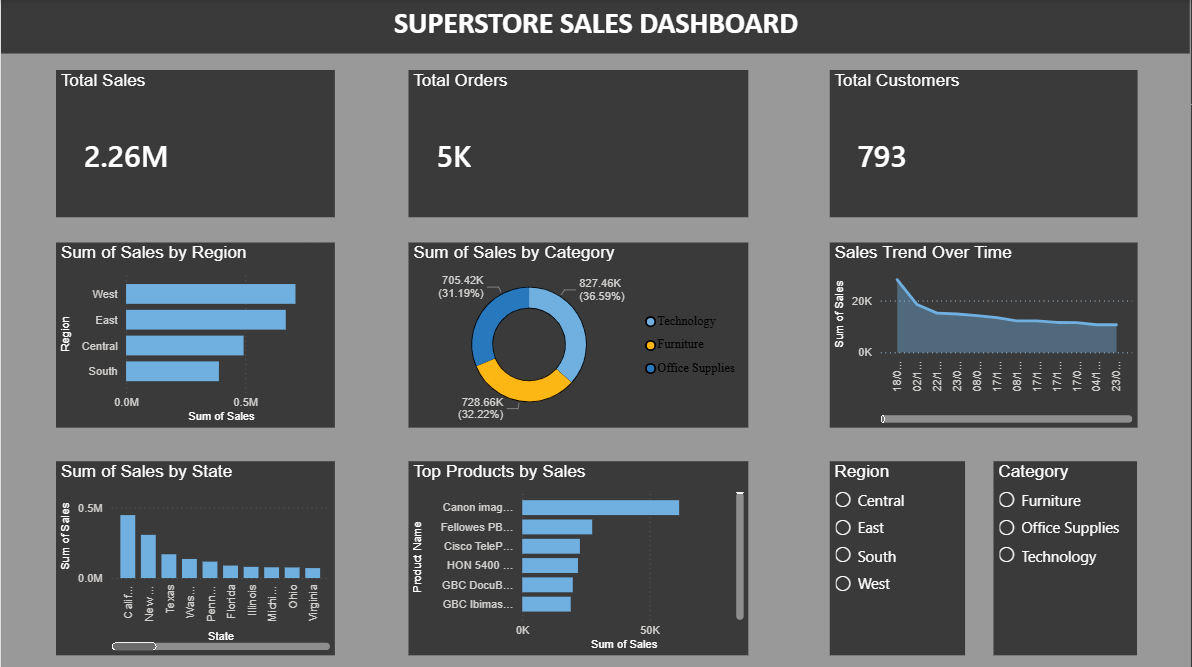

The page's visual inventory and layout, read from the dashboard file:
{"tool":"powerbi","page":{"name":"Page 1","canvas":[1280,720],"ordinal":0},"visuals":[{"type":"cardVisual","title":"Total Sales","fields":{"Data":["Sum(train.Sales)"]},"box":[59.2,75.3,299.9,158.7],"z":0},{"type":"clusteredBarChart","fields":{"Category":["train.Region"],"Y":["Sum(train.Sales)"]},"box":[59.2,260.9,299.9,199],"z":1000},{"type":"donutChart","fields":{"Category":["train.Category"],"Y":["Sum(train.Sales)"]},"box":[438.4,260.9,365.8,199],"z":2000},{"type":"clusteredColumnChart","fields":{"Category":["train.State"],"Y":["Sum(train.Sales)"]},"box":[59.2,496.2,299.9,208.4],"z":3000},{"type":"lineChart","title":"Sales Trend Over Time","fields":{"Category":["train.Order Date"],"Y":["Sum(train.Sales)"]},"box":[891.6,260.9,330.8,199],"z":4000},{"type":"listSlicer","fields":{"Values":["train.Region"]},"box":[891.6,496.2,145.2,208.4],"z":5000},{"type":"listSlicer","fields":{"Values":["train.Category"]},"box":[1067.8,496.2,154.7,208.4],"z":6000},{"type":"cardVisual","title":"Total Orders","fields":{"Data":["train.Total Orders"]},"box":[438.4,75.3,365.8,158.7],"z":7000},{"type":"cardVisual","title":"Total Customers","fields":{"Data":["train.Total Customer"]},"box":[891.6,75.3,330.8,158.7],"z":8000},{"type":"barChart","title":"Top Products by Sales","fields":{"Category":["train.Product Name"],"Y":["Sum(train.Sales)"]},"box":[438.4,496.2,365.8,208.4],"z":9000},{"type":"textbox","box":[0,0,1280.3,57.8],"z":10000}]}

Visuals, with their boxes in screenshot pixels (x1, y1, x2, y2), scaled from the page's 1280x720 canvas onto the 1192x667 screenshot:
"Total Sales" cardVisual: {"left": 55, "top": 70, "right": 334, "bottom": 217}
clusteredBarChart - train.Region x Sum(train.Sales): {"left": 55, "top": 242, "right": 334, "bottom": 426}
donutChart - train.Category x Sum(train.Sales): {"left": 408, "top": 242, "right": 749, "bottom": 426}
clusteredColumnChart - train.State x Sum(train.Sales): {"left": 55, "top": 460, "right": 334, "bottom": 653}
"Sales Trend Over Time" lineChart: {"left": 830, "top": 242, "right": 1138, "bottom": 426}
listSlicer - train.Region: {"left": 830, "top": 460, "right": 966, "bottom": 653}
listSlicer - train.Category: {"left": 994, "top": 460, "right": 1138, "bottom": 653}
"Total Orders" cardVisual: {"left": 408, "top": 70, "right": 749, "bottom": 217}
"Total Customers" cardVisual: {"left": 830, "top": 70, "right": 1138, "bottom": 217}
"Top Products by Sales" barChart: {"left": 408, "top": 460, "right": 749, "bottom": 653}
textbox: {"left": 0, "top": 0, "right": 1191, "bottom": 54}
